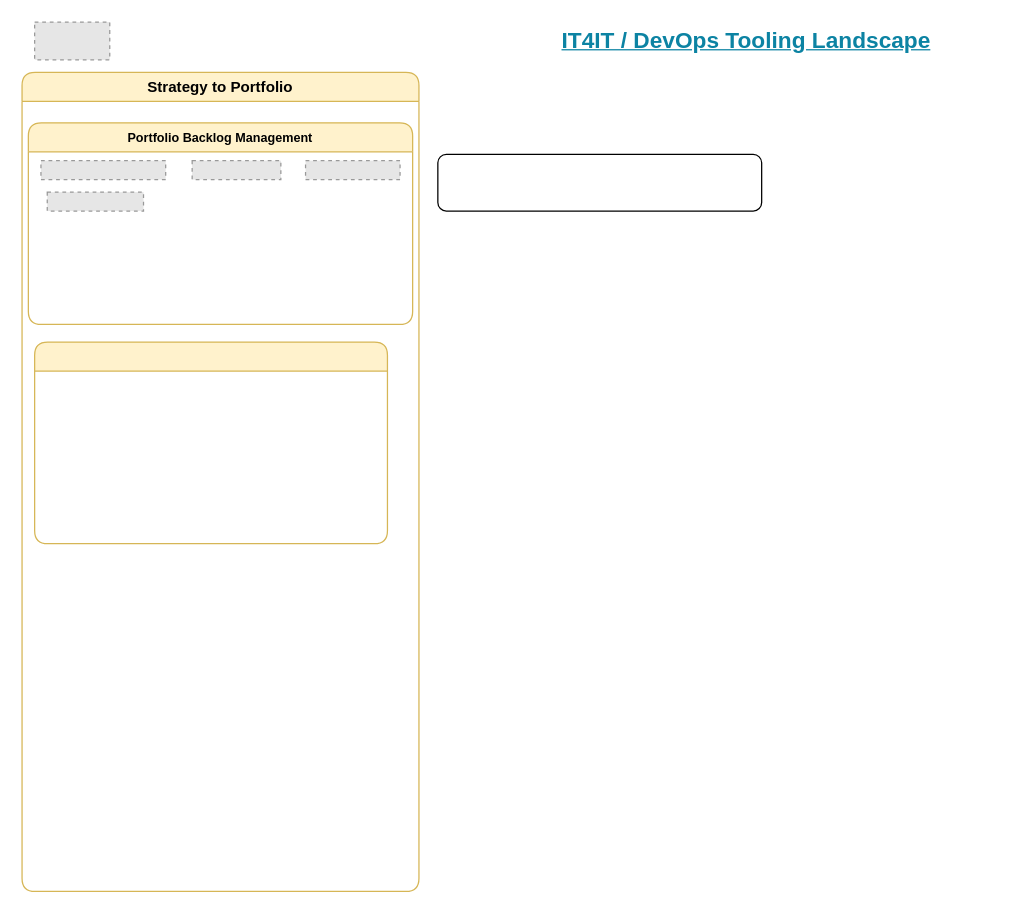
Some shapes in this 1014 by 914 pixel diagram are drawn without their labels. Grey dashed boxes stand in for pictures. The centre of each missing label's shape, as x and y in pixels:
"Service / Application / Product Portfolio" goes at point (210, 442).
"xl-deploy" goes at point (599, 182).
